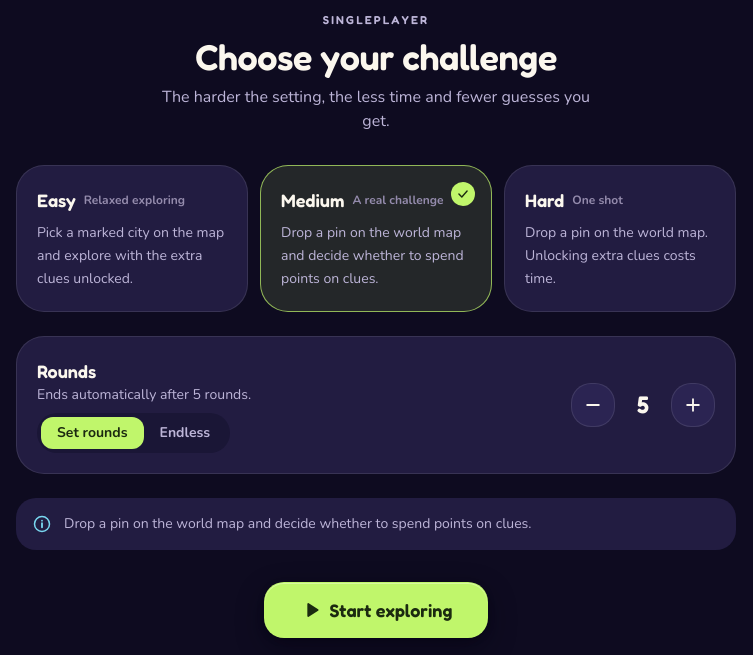
Test: SingleplayerPage round count selection › allows switching to endless mode and persists the choice across visits
Later steps or results of the test are not shown.
Click the radio button labelled "Endless": (185, 432) [144,416,226,448]
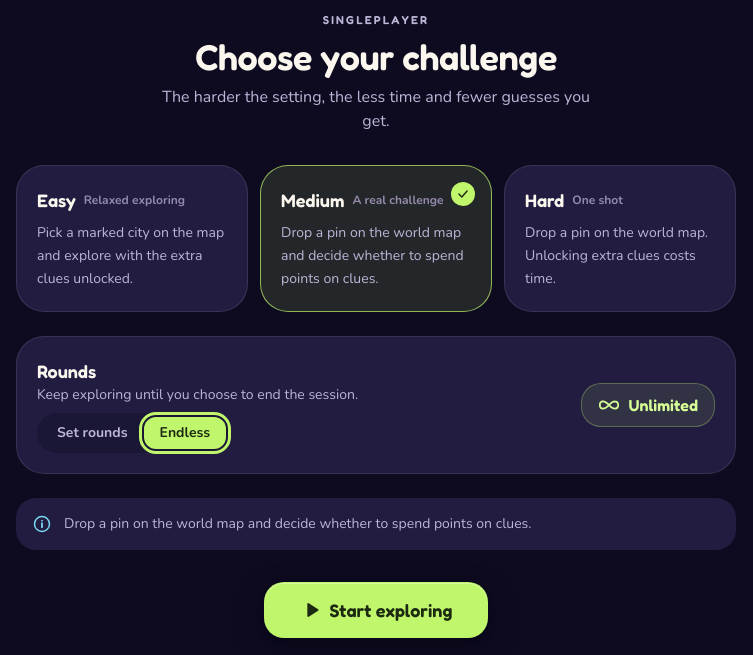
Result: the text "Unlimited" is shown at [628,392,698,416]
